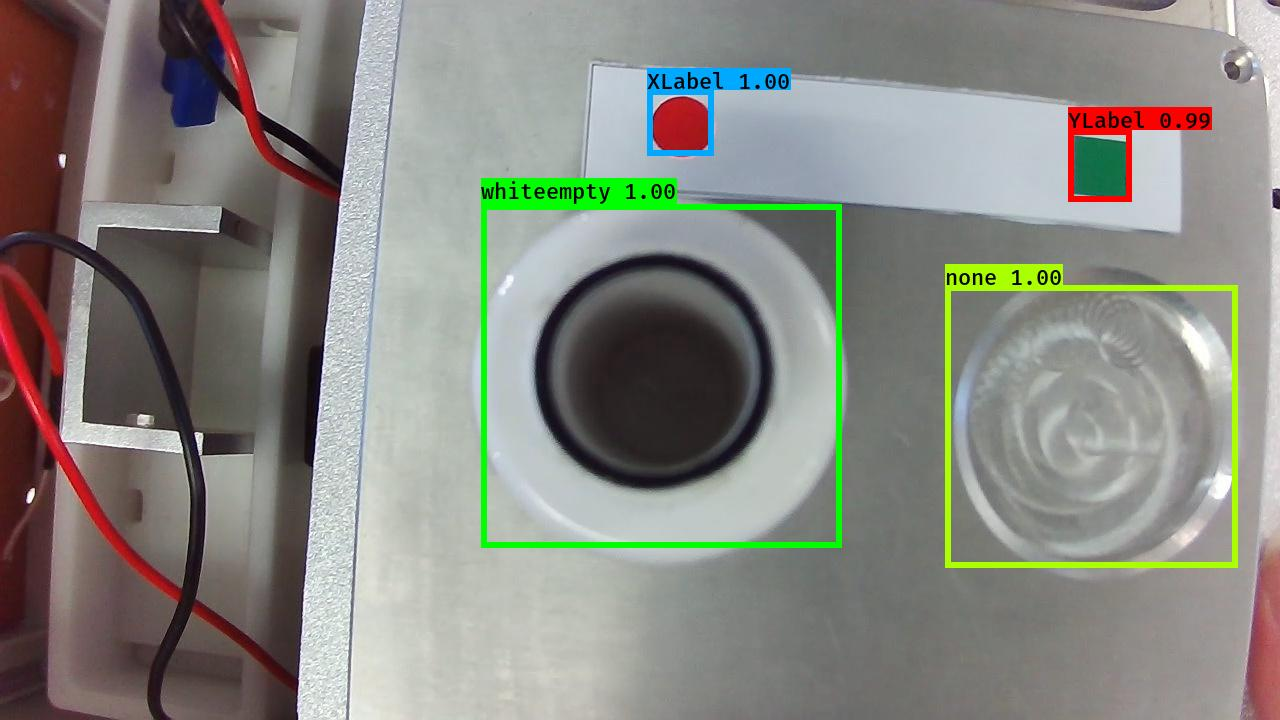XLabel: (648, 91, 717, 160)
YLabel: (1065, 132, 1136, 205)
none: (938, 254, 1249, 588)
whiteempty: (462, 192, 851, 573)
